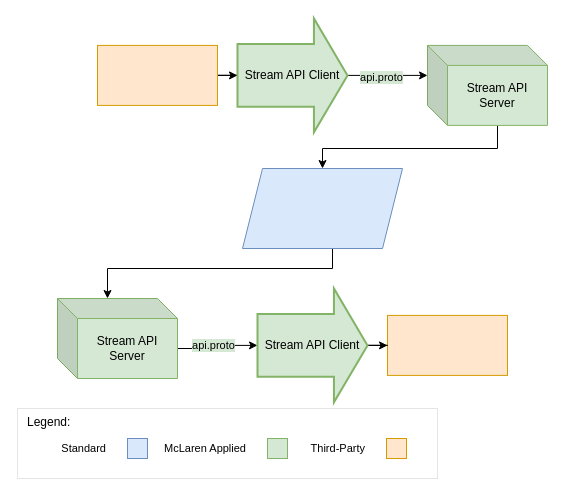
Some shapes in this 565 by 496 pixel diagram are drawn without their labels. The shapes that lost their labels are listed below. From the top down, each one's centre as x and y in pixels, then its label:
[157,74]: Custom Producer
[322,208]: Broker
[447,344]: Custom Consumer
